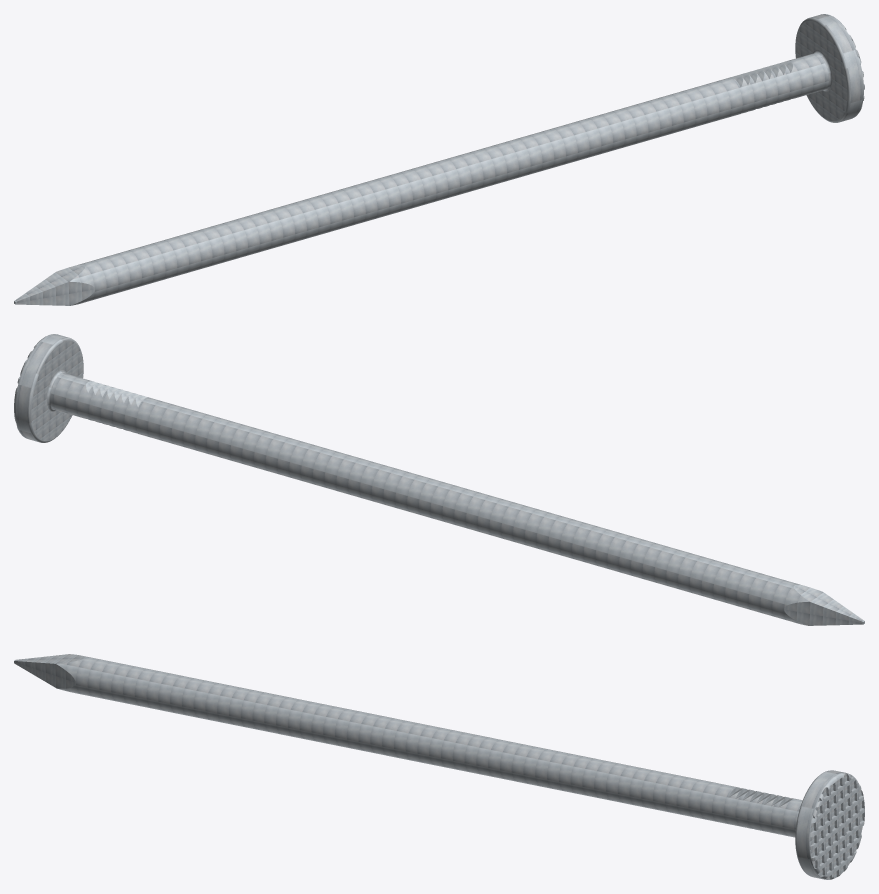
Rendered from nail.obj.
The picture shows the model from 3 angles, top to bottom: view 1: azimuth 30°, elevation 25°; view 2: azimuth 150°, elevation 25°; view 3: azimuth 330°, elevation 25°; orthographic projection.
Visible parts, largest first — view 1: default; view 2: default; view 3: default.
Part boxes in pixels (x1=…): default: x1=14, y1=14, x2=864, y2=305; default: x1=14, y1=334, x2=864, y2=625; default: x1=14, y1=654, x2=864, y2=879.
Size of the model in its own units: 2.76 by 0.3163 by 0.3146.
Materials: 1 (1 with a texture image).
